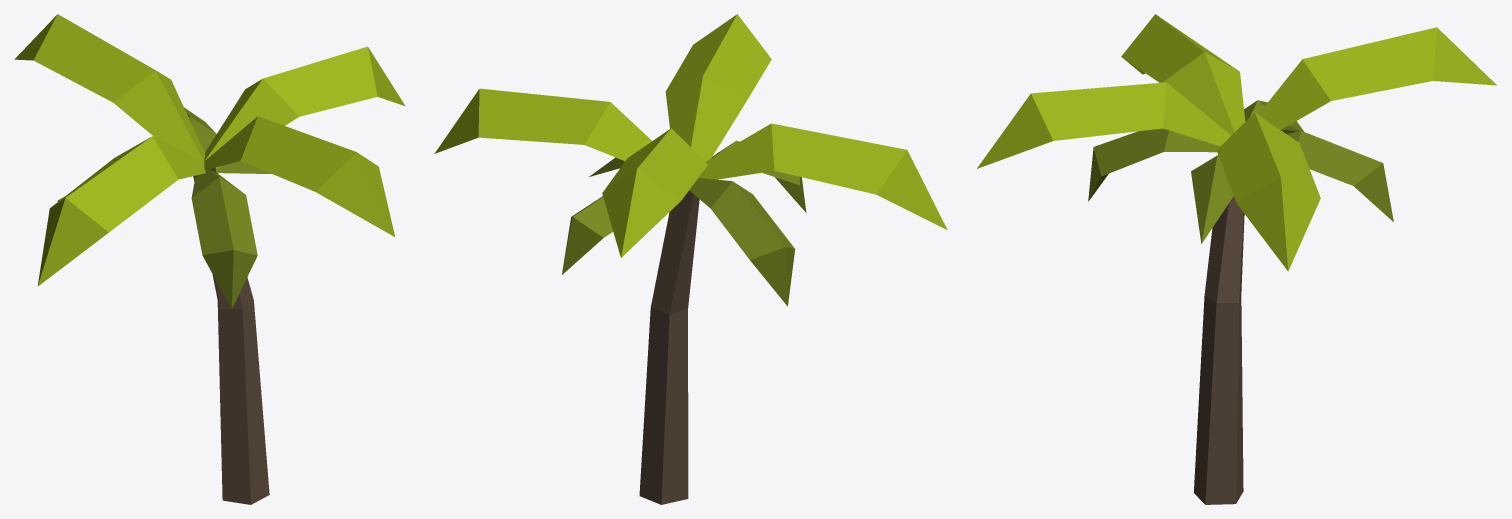
File: TB_D_Env_Tree_PalmA_A.FBX
The picture shows the model from 3 angles, left to right: view 1: azimuth 30°, elevation 25°; view 2: azimuth 150°, elevation 25°; view 3: azimuth 270°, elevation 25°; orthographic projection.
Parts seen in each view (by area): view 1: TB_D_Env_Tree_PalmA_A; view 2: TB_D_Env_Tree_PalmA_A; view 3: TB_D_Env_Tree_PalmA_A.
Boxes of the visible parts, x1,y1,x2,y2 form: TB_D_Env_Tree_PalmA_A: [14, 14, 405, 504]; TB_D_Env_Tree_PalmA_A: [434, 14, 947, 504]; TB_D_Env_Tree_PalmA_A: [977, 14, 1496, 504].
Bounding box in the file's own units: 5.89 × 5.4 × 5.94.
